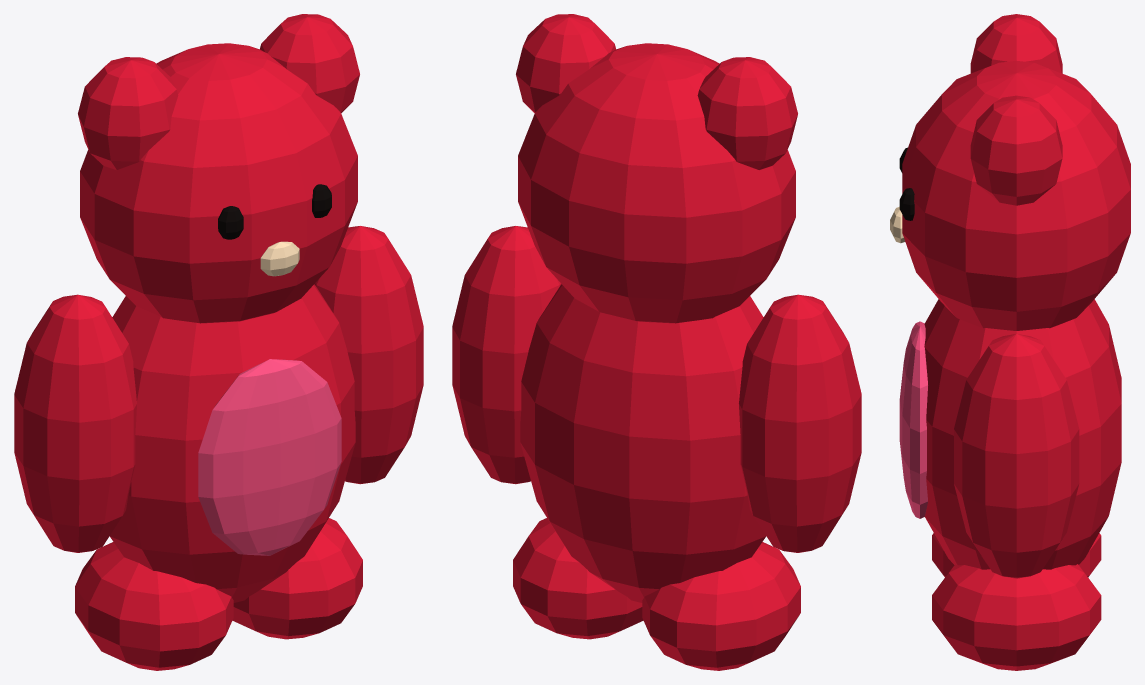
File: Gummy_Bear.obj
3 views of the same model, side by side, from view 1: azimuth 30°, elevation 25°; view 2: azimuth 150°, elevation 25°; view 3: azimuth 270°, elevation 25° (orthographic). The views are drawn at different scales.
Visible parts, largest first — view 1: Head, Body, LeftArm, Belly, RightArm, LeftFoot, RightFoot, LeftEar, RightEar, Nose, LeftEye; view 2: Body, Head, LeftArm, RightArm, LeftFoot, RightFoot, LeftEar, RightEar; view 3: Head, RightArm, Body, RightFoot, RightEar, Belly, LeftEar, LeftFoot, RightEye, Nose.
Boxes of the visible parts, x1=… form: Head: x1=80, y1=43, x2=357, y2=323; Body: x1=109, y1=284, x2=355, y2=602; LeftArm: x1=14, y1=294, x2=136, y2=552; Belly: x1=198, y1=359, x2=341, y2=555; RightArm: x1=314, y1=226, x2=423, y2=484; LeftFoot: x1=75, y1=542, x2=233, y2=670; RightFoot: x1=232, y1=518, x2=362, y2=639; LeftEar: x1=78, y1=57, x2=178, y2=169; RightEar: x1=260, y1=14, x2=359, y2=113; Nose: x1=260, y1=241, x2=299, y2=276; LeftEye: x1=218, y1=206, x2=243, y2=239; Body: x1=520, y1=284, x2=766, y2=602; Head: x1=518, y1=43, x2=795, y2=323; LeftArm: x1=739, y1=294, x2=861, y2=552; RightArm: x1=452, y1=226, x2=561, y2=484; LeftFoot: x1=642, y1=542, x2=800, y2=670; RightFoot: x1=513, y1=518, x2=643, y2=639; LeftEar: x1=697, y1=57, x2=797, y2=169; RightEar: x1=516, y1=14, x2=615, y2=113; Head: x1=902, y1=60, x2=1130, y2=330; RightArm: x1=954, y1=334, x2=1079, y2=578; Body: x1=924, y1=299, x2=1121, y2=569; RightFoot: x1=932, y1=564, x2=1101, y2=670; RightEar: x1=970, y1=95, x2=1062, y2=205; Belly: x1=899, y1=321, x2=927, y2=518; LeftEar: x1=970, y1=14, x2=1062, y2=73; LeftFoot: x1=932, y1=533, x2=1101, y2=577; RightEye: x1=899, y1=188, x2=914, y2=220; Nose: x1=890, y1=206, x2=905, y2=243.
Bounding box in the file's own units: 1.33 × 1.97 × 0.7485.
